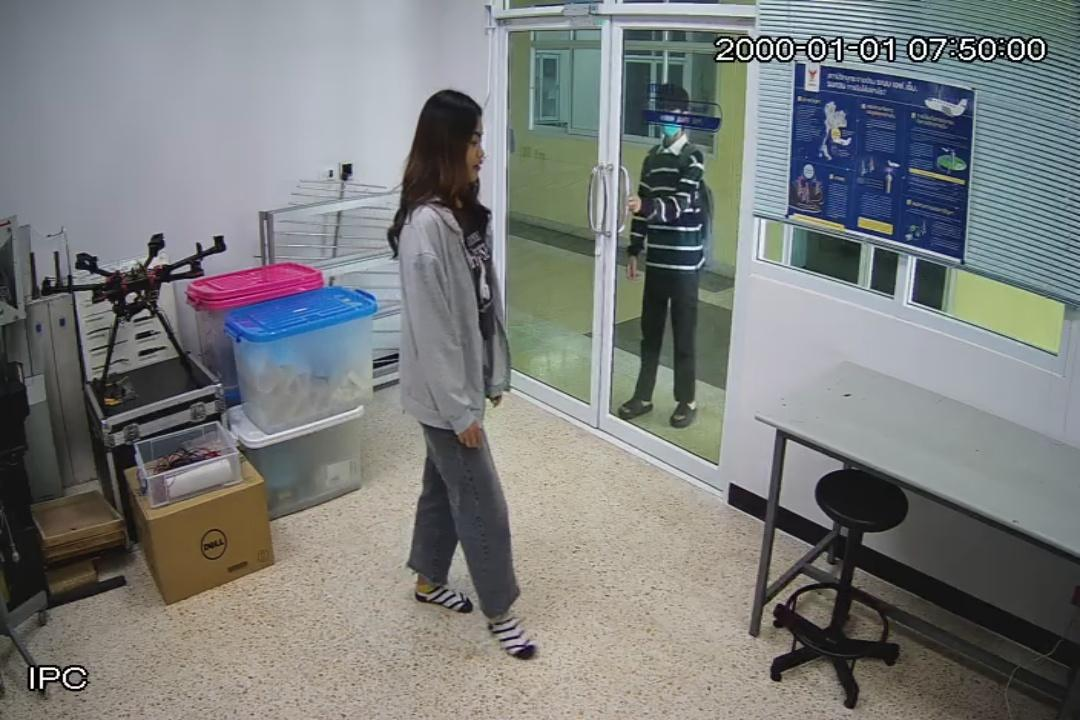normal: (392, 88, 540, 664), (618, 85, 710, 429)
